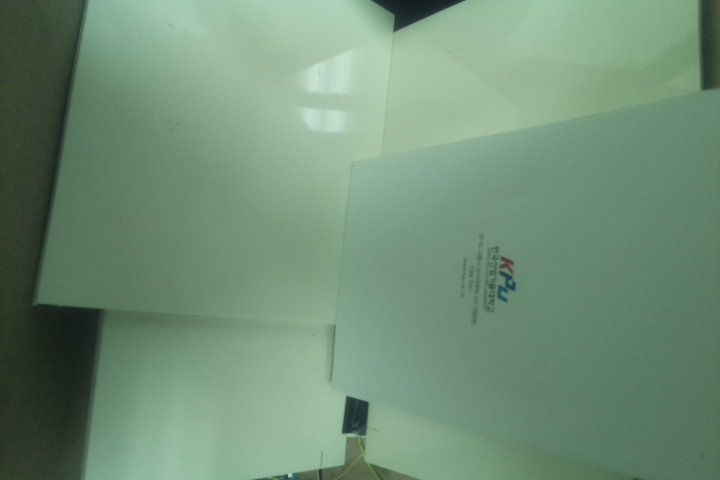book: (331, 81, 720, 479)
